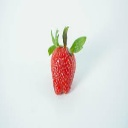strawberry: (49, 33, 78, 97)
